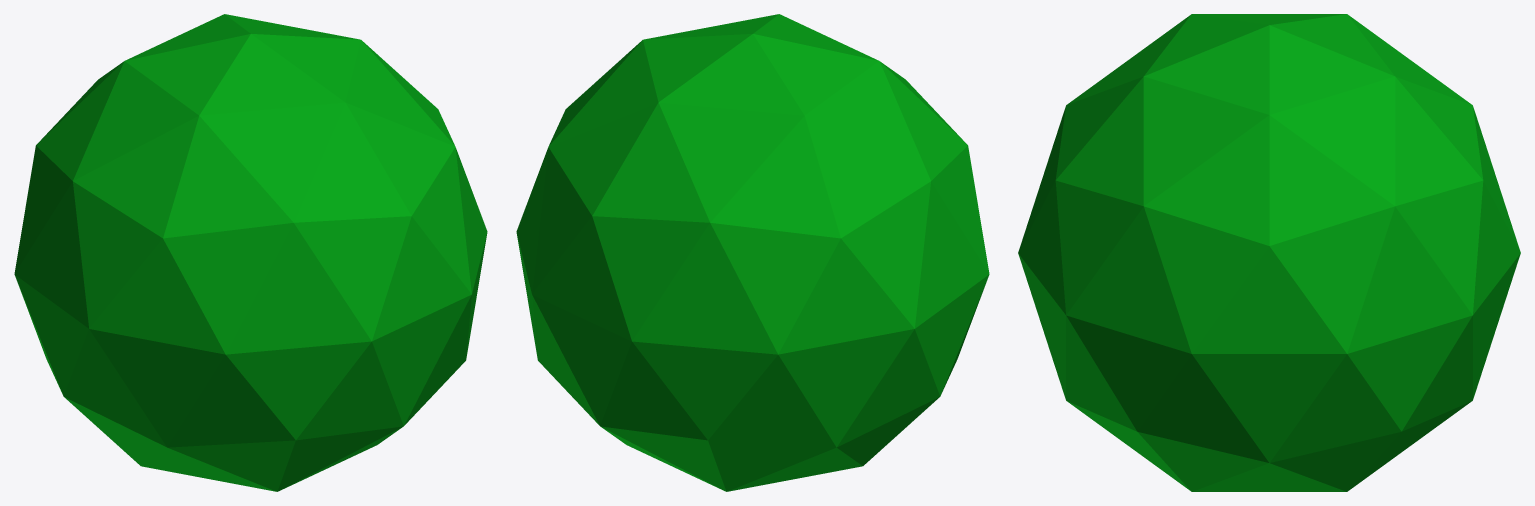
The model's file is Kust1.fbx.
3 views of the same model, side by side, from view 1: azimuth 30°, elevation 25°; view 2: azimuth 150°, elevation 25°; view 3: azimuth 270°, elevation 25° (orthographic). The views are drawn at different scales.
Parts seen in each view (by area): view 1: Икосфера; view 2: Икосфера; view 3: Икосфера.
Part boxes in pixels (x1=…): Икосфера: x1=14, y1=14, x2=487, y2=491; Икосфера: x1=516, y1=14, x2=989, y2=491; Икосфера: x1=1018, y1=14, x2=1520, y2=491.
Size of the model in its own units: 190 by 185 by 200.
